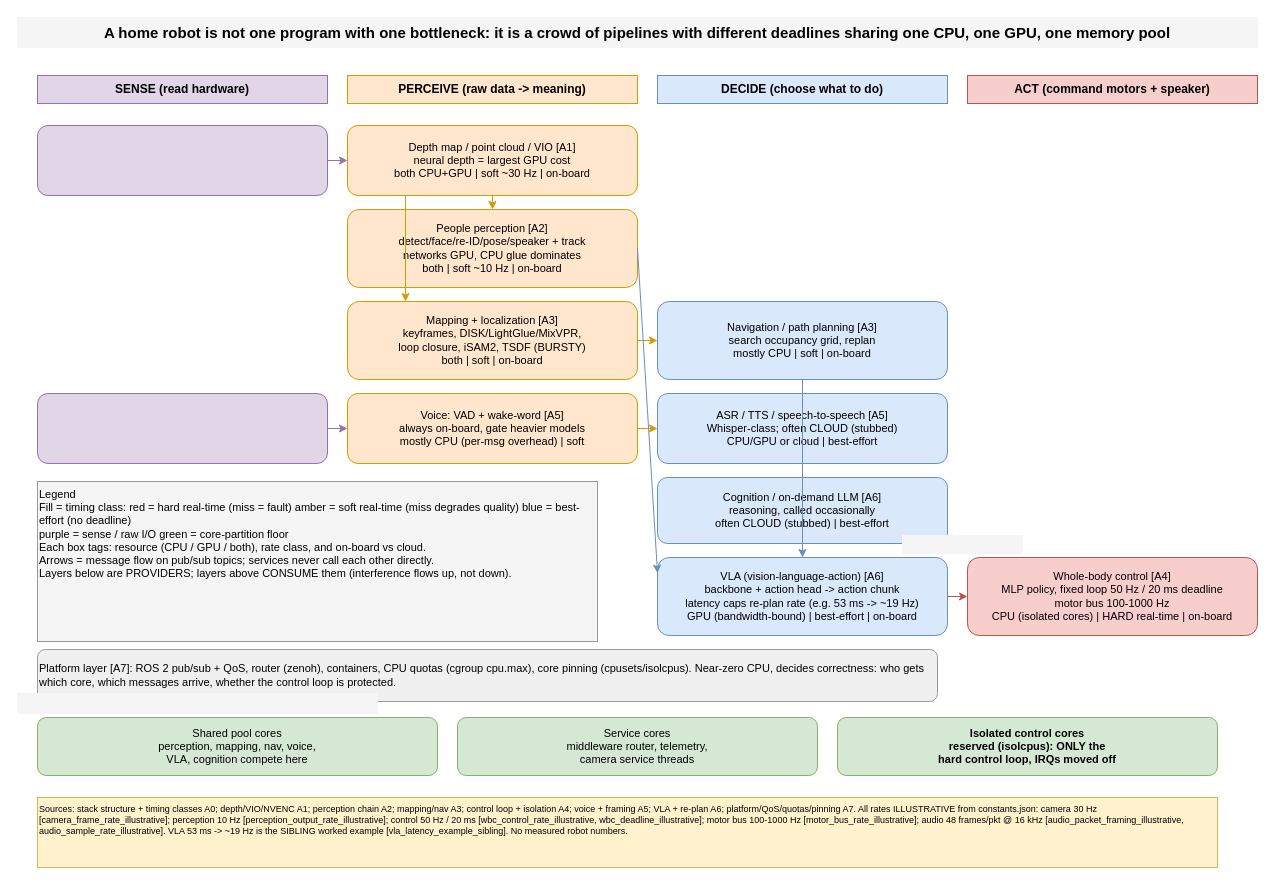
Some shapes in this 1275 by 885 pixel diagram are drawn without their labels. Each missing label, with the centre of its shape:
"action chunk ->" goes at point 962,544.
"Depth camera + IMU [A1] stereo pair, IMU at 100s Hz both CPU+GPU | on-board" goes at point 182,160.
"Microphone array [A5] packets: 48 frames/pkt @ 16 kHz CPU | on-board" goes at point 182,428.
"THE FLOOR: one small on-board computer, cores partitioned ->" goes at point 197,703.
